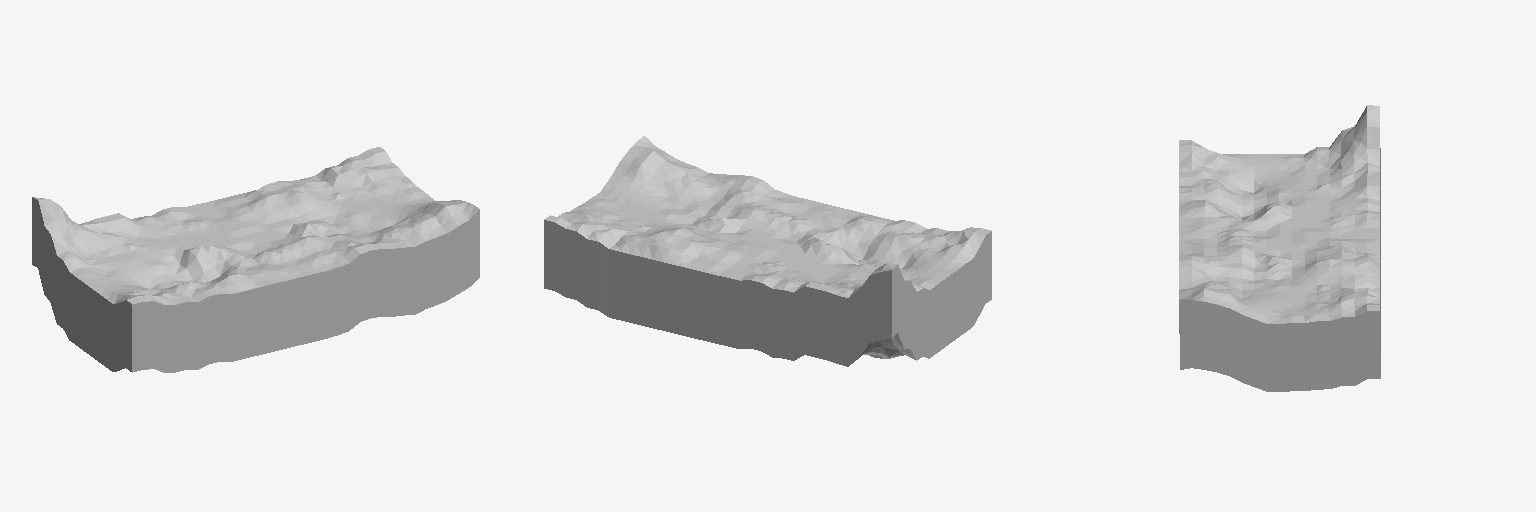
3 views of the same model, side by side, from view 1: azimuth 30°, elevation 25°; view 2: azimuth 150°, elevation 25°; view 3: azimuth 270°, elevation 25° (orthographic).
Visible parts, largest first — view 1: Ground.002_Plane.014; view 2: Ground.002_Plane.014; view 3: Ground.002_Plane.014.
Boxes of the visible parts, x1,y1,x2,y2 form: Ground.002_Plane.014: [32, 147, 479, 372]; Ground.002_Plane.014: [544, 136, 991, 366]; Ground.002_Plane.014: [1179, 105, 1380, 391].
Bounding box in the file's own units: 160 × 58.41 × 80.36.